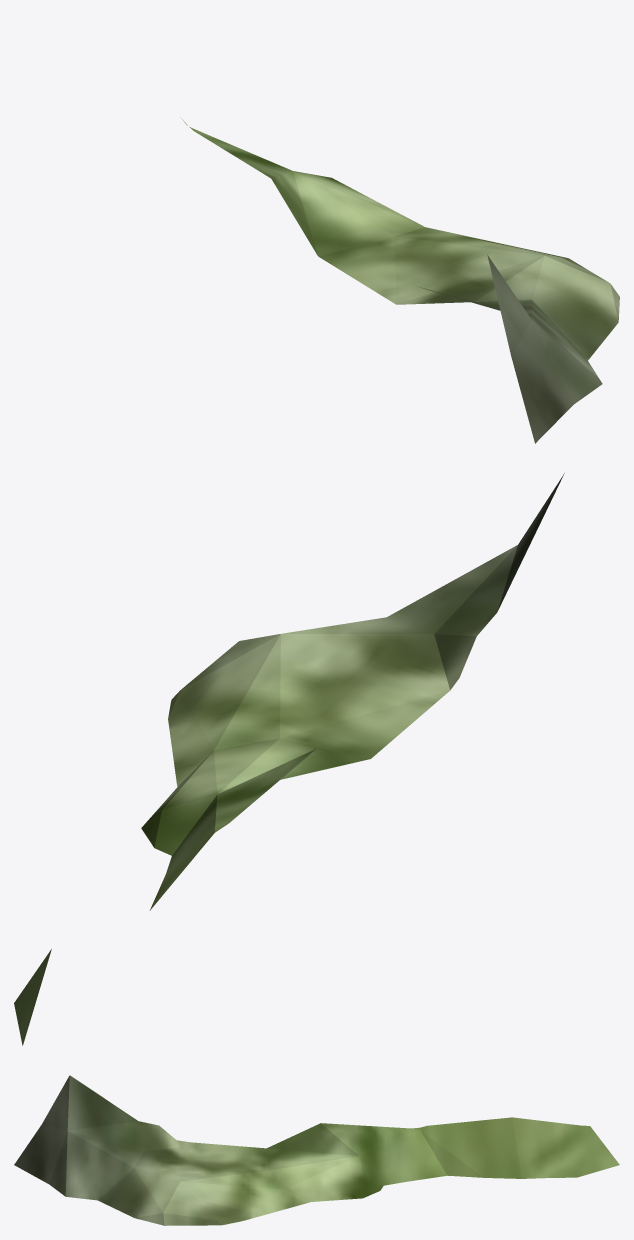
The picture shows the model from 3 angles, top to bottom: view 1: azimuth 30°, elevation 25°; view 2: azimuth 150°, elevation 25°; view 3: azimuth 270°, elevation 25°; orthographic projection. The views are drawn at different scales.
Bounding box in the file's own units: 0.3354 × 0.2312 × 1.41.
1 material, 1 textured.
